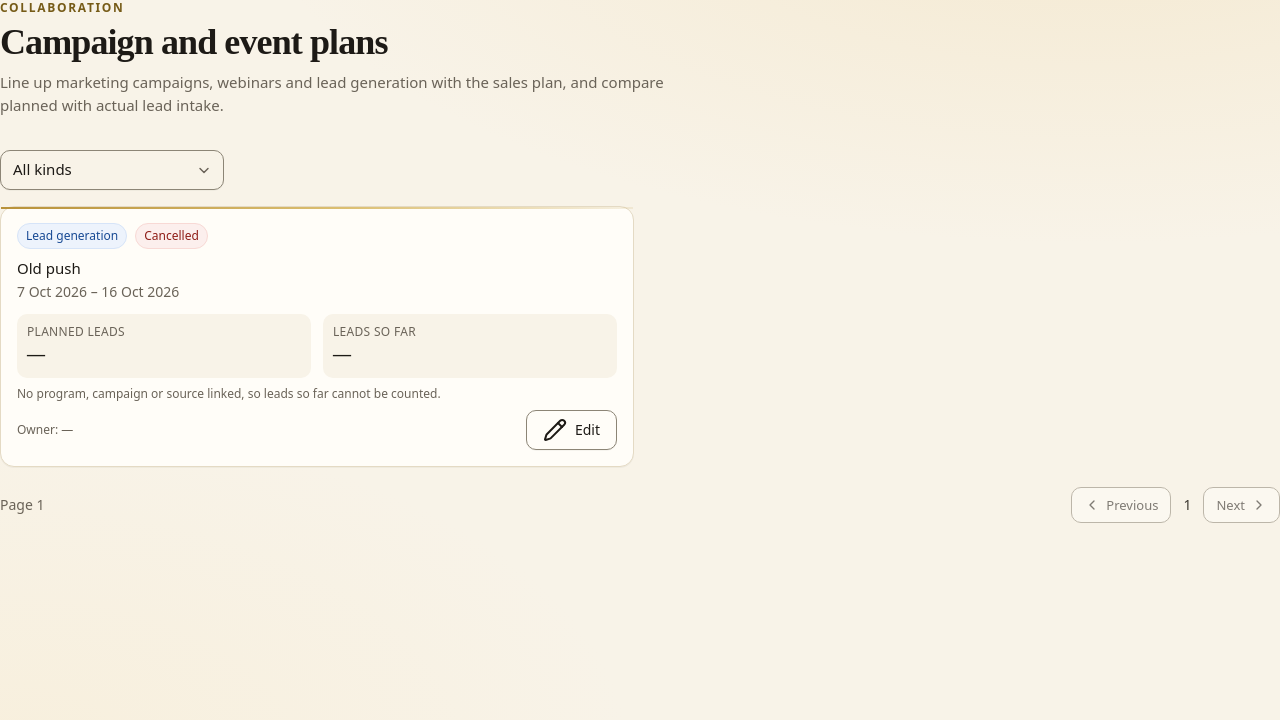
Test: plans and insights › a closed plan cannot be saved
This screenshot has width=1280, height=720.
Expected: the text "Old push" is shown, [17,258,81,278]
Expected: the text "No program, campaign or source linked" is shown, [17,385,441,402]
Click the button "Edit".
click(571, 430)  # box [526,410,617,450]
(page scrolled)
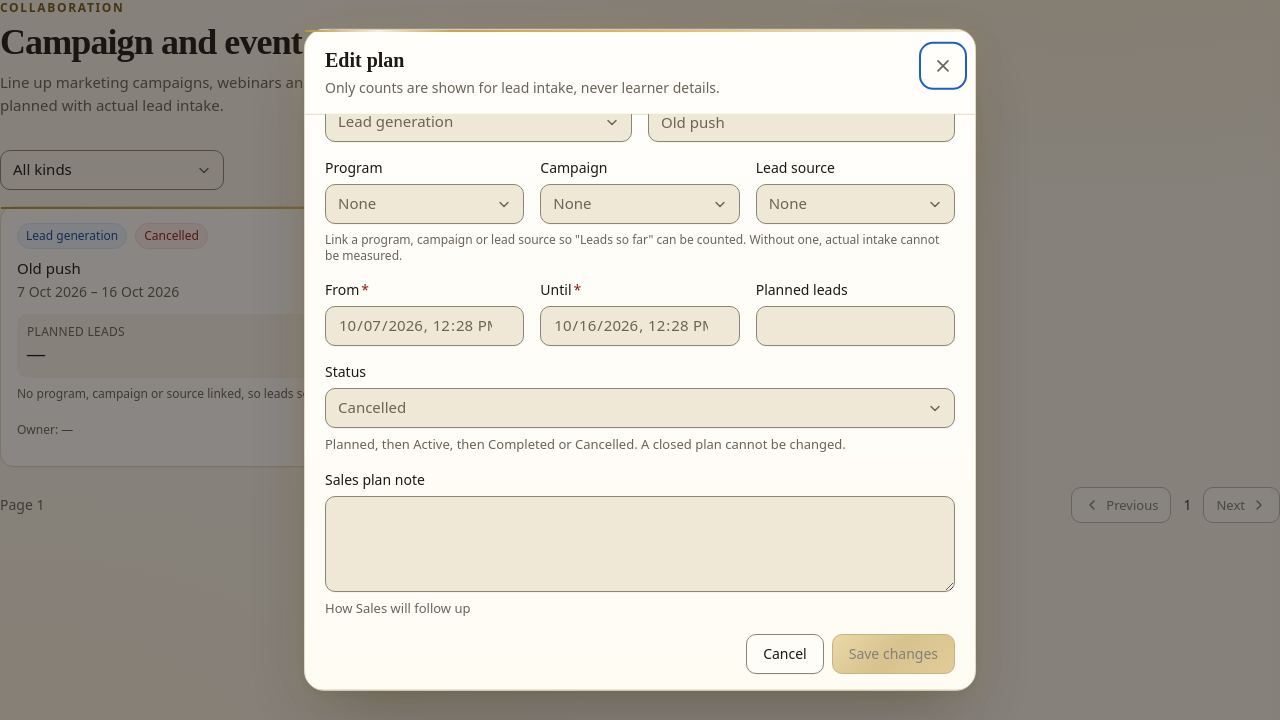
Result: the button "Save changes" is disabled at [832,634,955,674]
